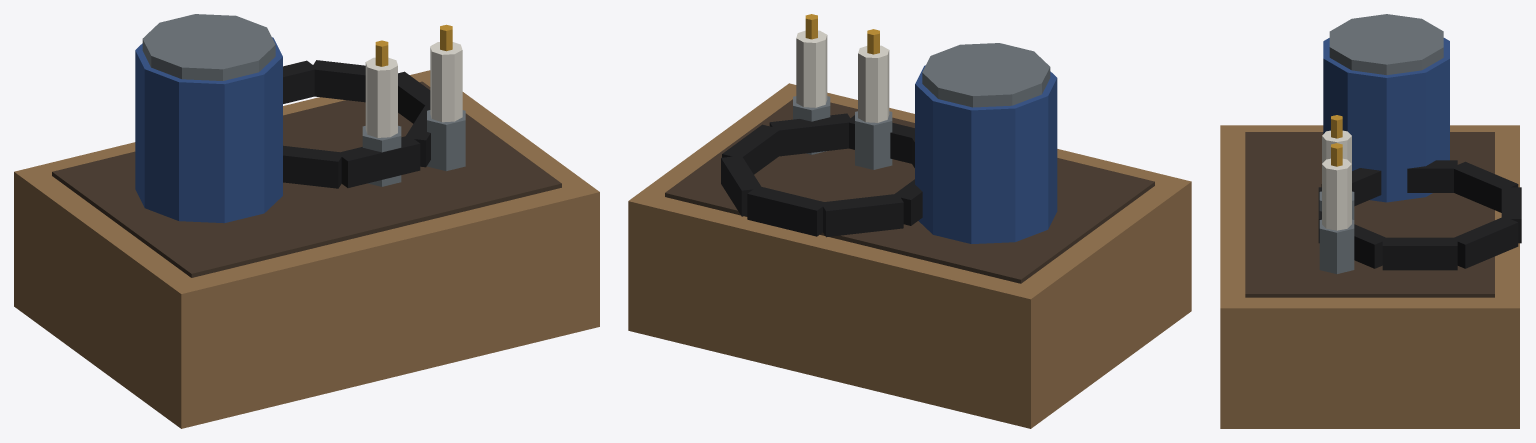
The model's file is car_parts.glb.
3 views of the same model, side by side, from view 1: azimuth 30°, elevation 25°; view 2: azimuth 150°, elevation 25°; view 3: azimuth 270°, elevation 25° (orthographic). The views are drawn at different scales.
Visible parts, largest first — view 1: car_parts; view 2: car_parts; view 3: car_parts.
Part boxes in pixels (x1,y1,x2,y2): car_parts: [14, 14, 599, 428]; car_parts: [628, 14, 1191, 428]; car_parts: [1220, 14, 1521, 428].
Bounding box in the file's own units: 0.26 × 0.172 × 0.181.
Materials: 2 (2 with a texture image).
